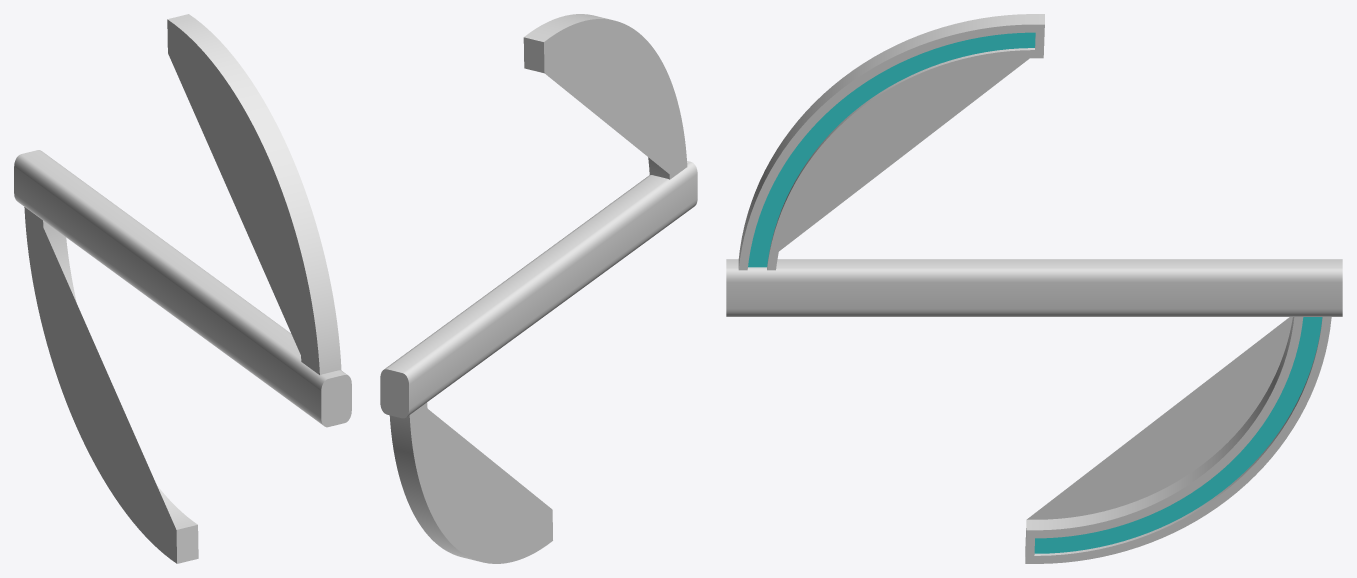
Rendered from excursion_funnel_inner_ring.fbx.
3 views of the same model, side by side, from view 1: azimuth 30°, elevation 25°; view 2: azimuth 150°, elevation 25°; view 3: azimuth 270°, elevation 25° (orthographic). The views are drawn at different scales.
Visible parts, largest first — view 1: Cylinder.017; view 2: Cylinder.017; view 3: Cylinder.017.
Boxes of the visible parts, x1,y1,x2,y2 form: Cylinder.017: [14, 14, 351, 563]; Cylinder.017: [380, 14, 697, 563]; Cylinder.017: [726, 14, 1342, 563].
Size of the model in its own units: 10.4 by 174 by 180.
